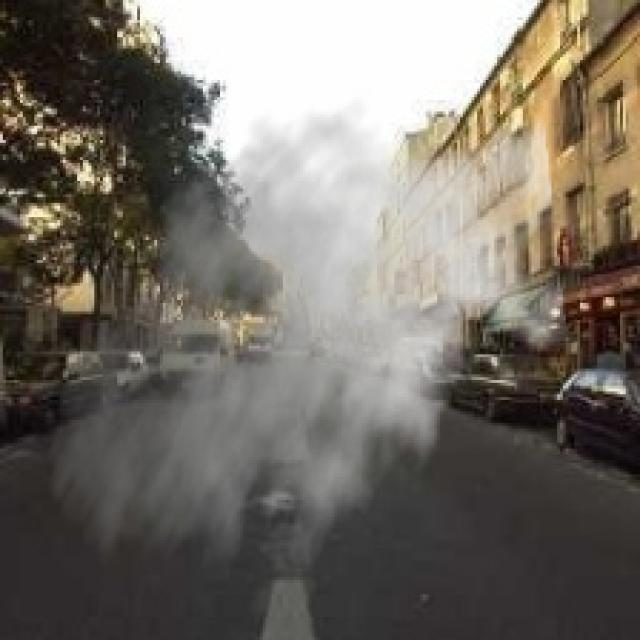smoke: (43, 80, 568, 611)
